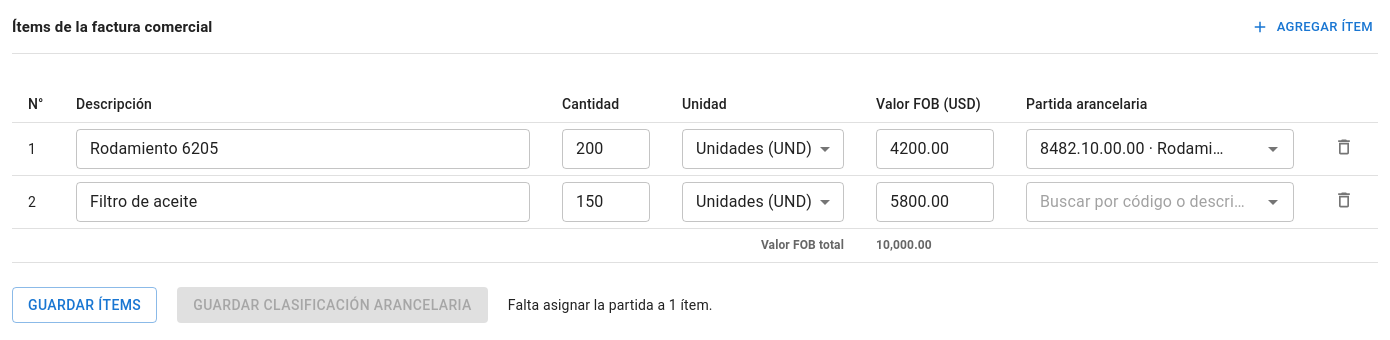
ClasificacionDespacho (HU-07) › CA1: el buscador consulta el catálogo con lo que se escribe y muestra la tasa Ad Valorem
This screenshot has width=1390, height=340.
Type "FILTRO" into the dropdown named "Partida arancelaria del ítem 2" at (1144, 202), box [1032,188,1255,216]
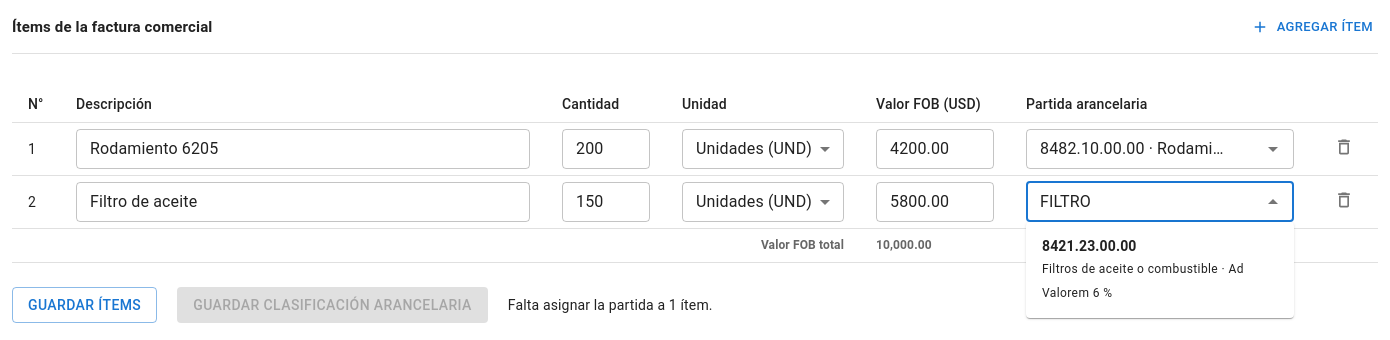
Expected: the option "Filtros de aceite o combustible · Ad Valorem 6 %" is shown, [1042,238,1244,300]
